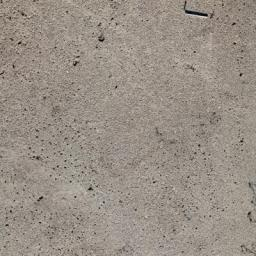FOD: (179, 1, 211, 22)
